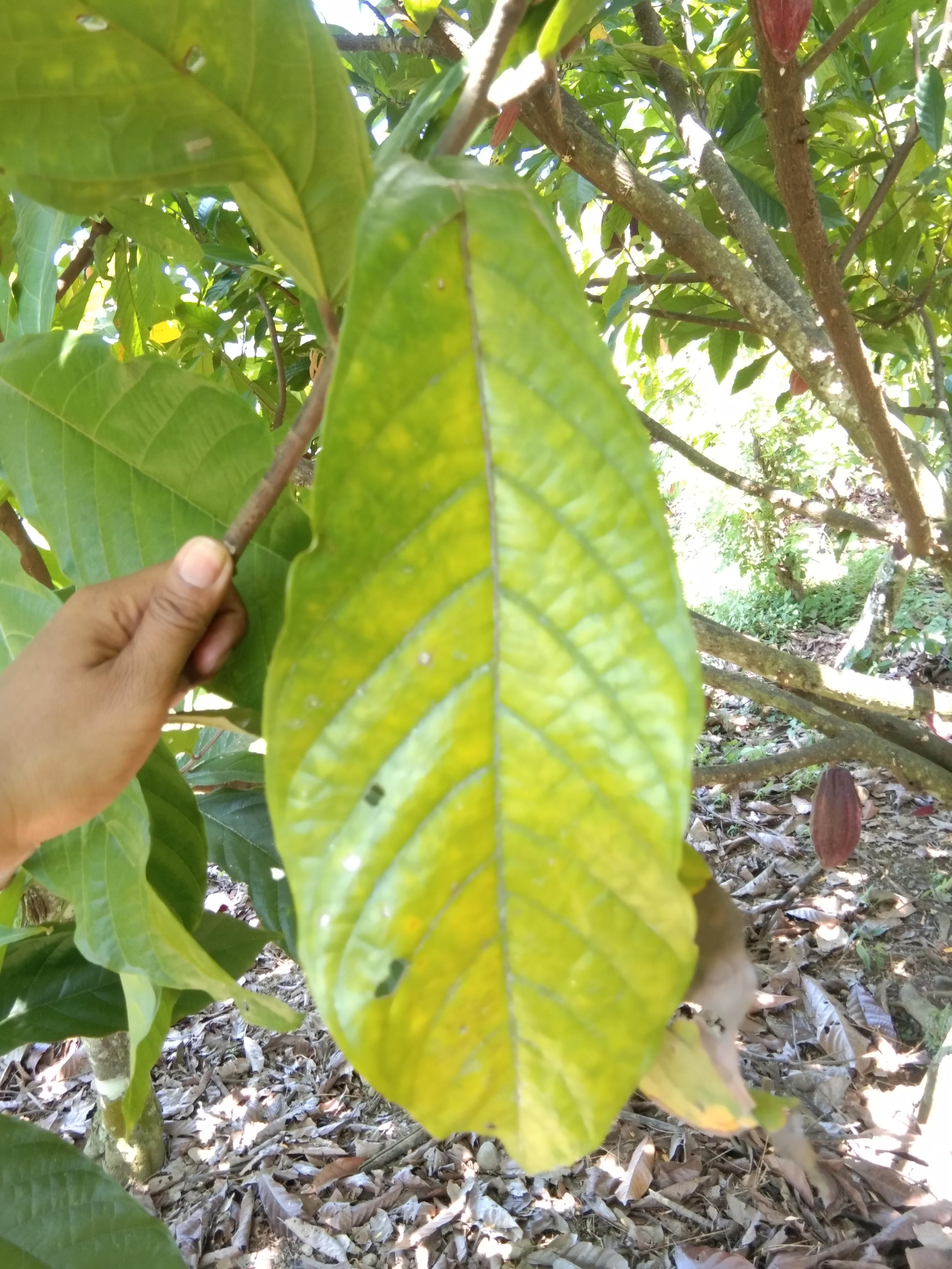deficiencia_potasio: (234, 144, 718, 1200)
